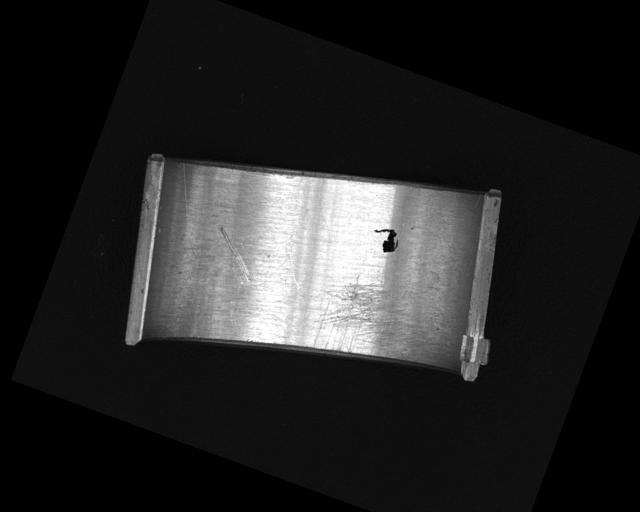blot: (367, 222, 403, 256)
nick: (261, 173, 339, 293), (154, 160, 221, 252), (205, 225, 264, 281), (223, 268, 256, 328)
scratch: (302, 265, 441, 382)
